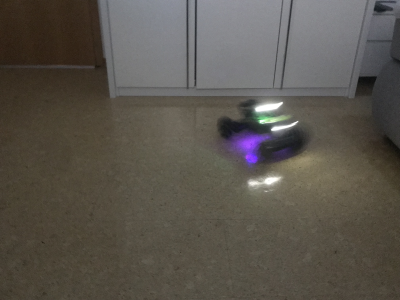remote control car: (213, 94, 309, 164)
